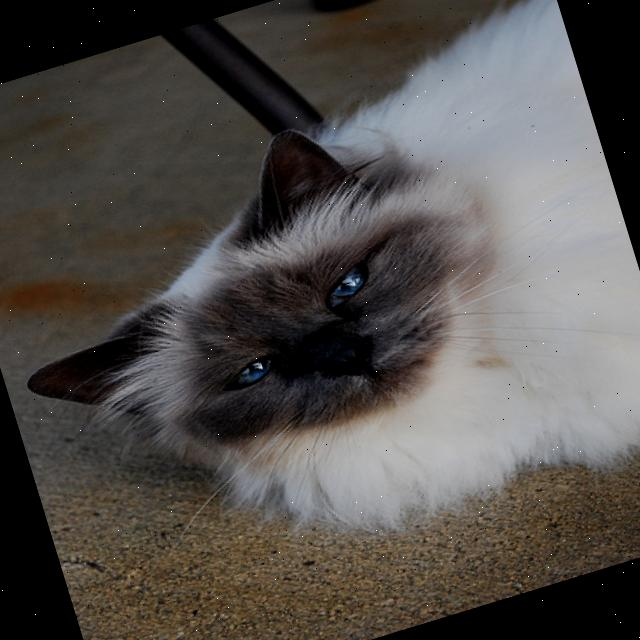cat-eye: (309, 252, 392, 316)
cat-eye-normal: (198, 340, 286, 406)
